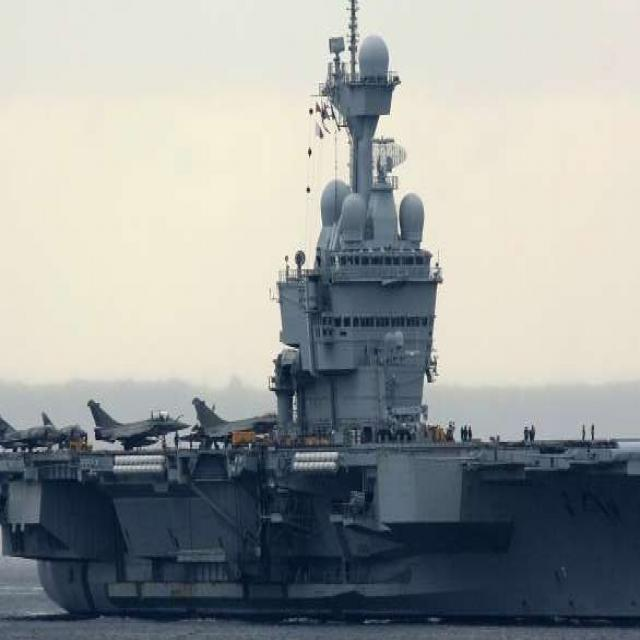Portanaves: (1, 1, 640, 631)
